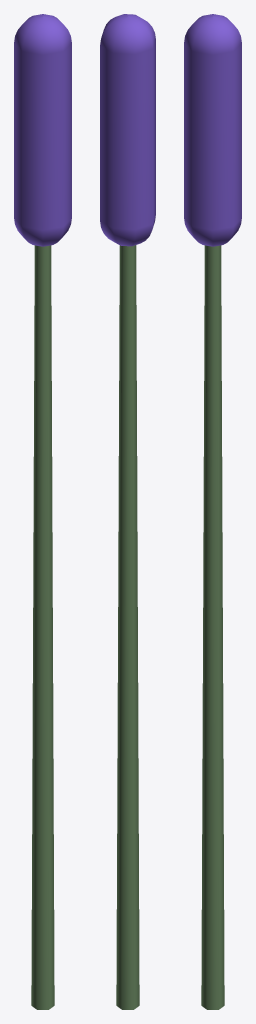
File: fleur_lavande.glb
The picture shows the model from 3 angles, left to right: view 1: azimuth 90°, elevation 25°; view 2: azimuth 150°, elevation 25°; view 3: azimuth 270°, elevation 25°; orthographic projection.
Bounding box in the file's own units: 0.03 × 0.565 × 0.03.
